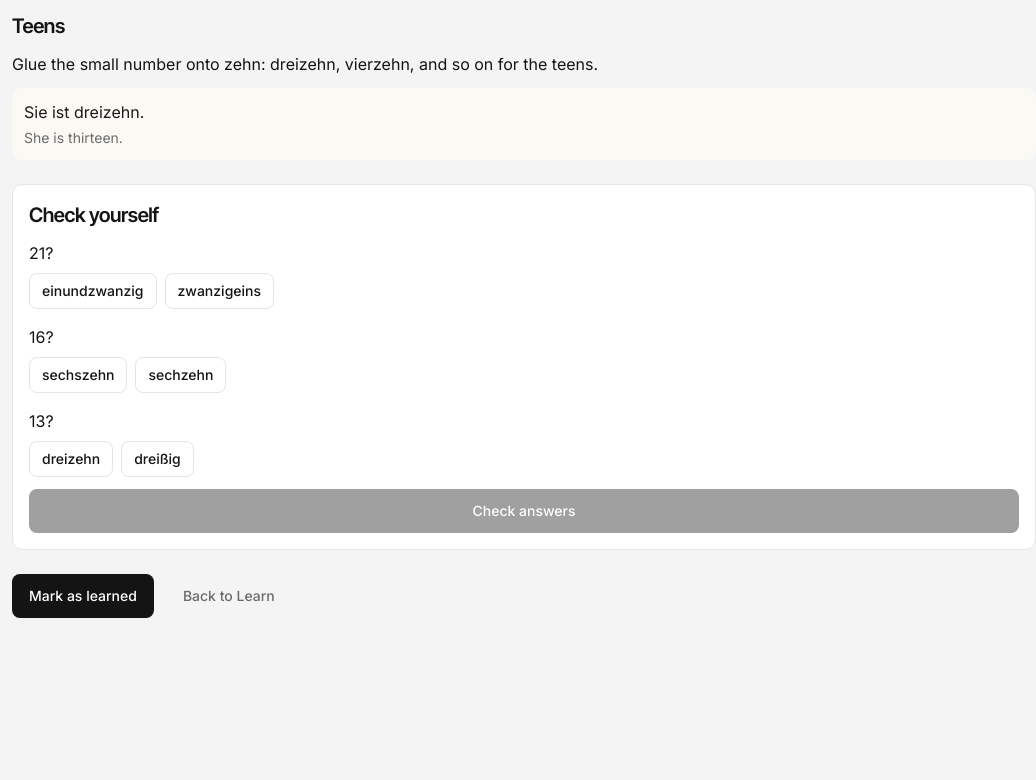
Test case: foundation study › scores the self-check, shows the grade, and allows a retake
Click the button with test id "quiz-0-0" at [93, 291], box [29,273,156,309]
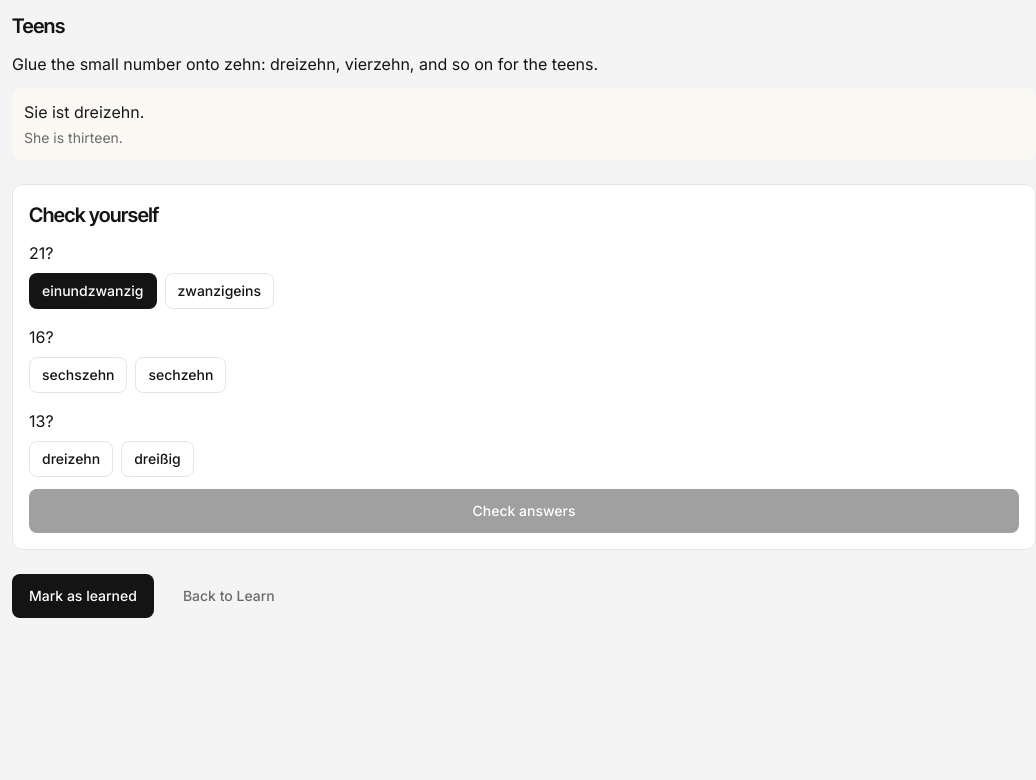
Click the button with test id "quiz-1-0" at [78, 375], box [29,357,128,393]
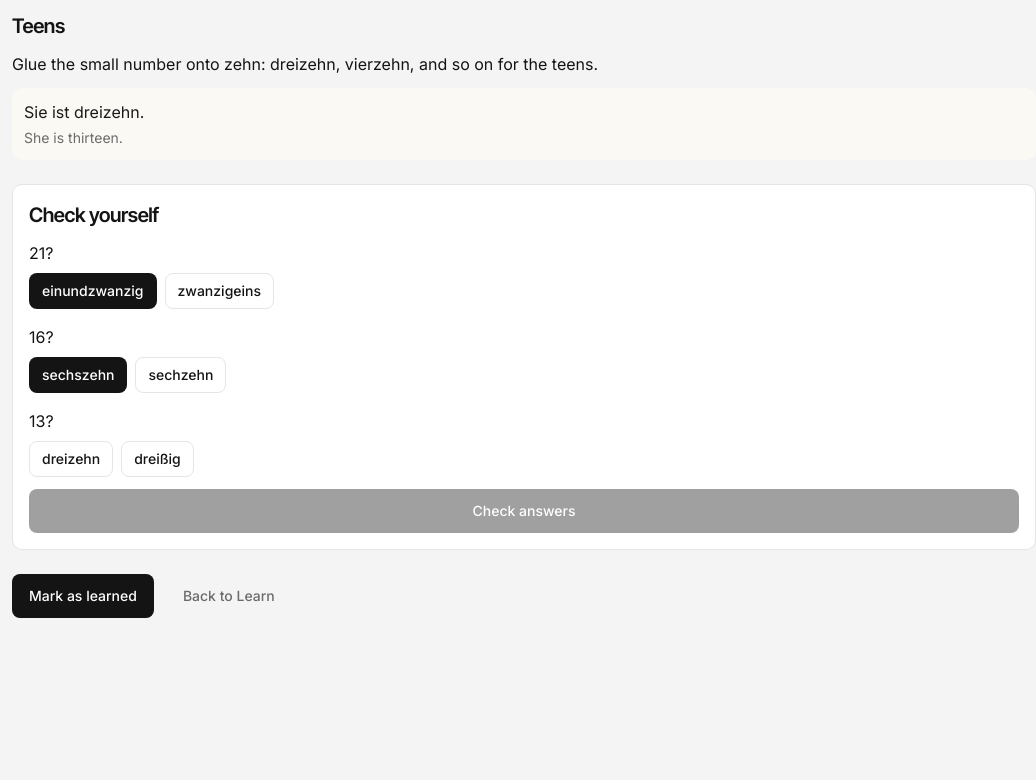
Click the button with test id "quiz-2-0" at [71, 459], box [29,441,113,477]
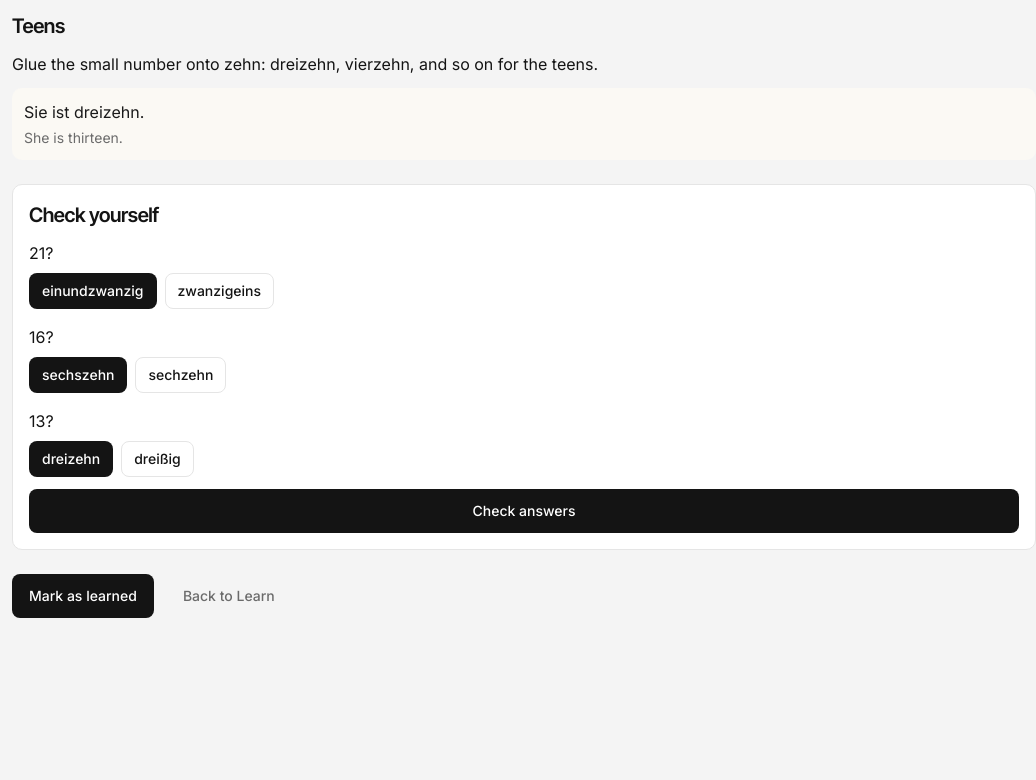
Click the button with test id "quiz-submit" at [524, 511], box [29,489,1019,533]
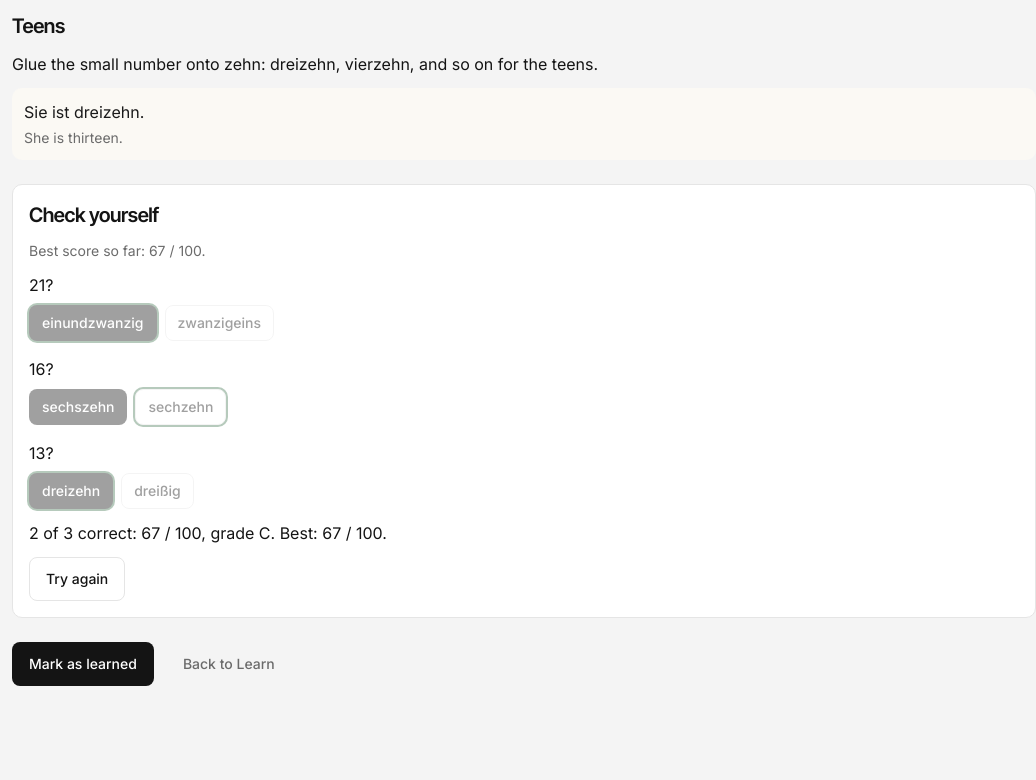
Expected: the message with test id "quiz-result" shows "67 / 100, grade C", [29,521,387,545]
Click the button with test id "quiz-retake" at [77, 579], box [29,557,125,601]
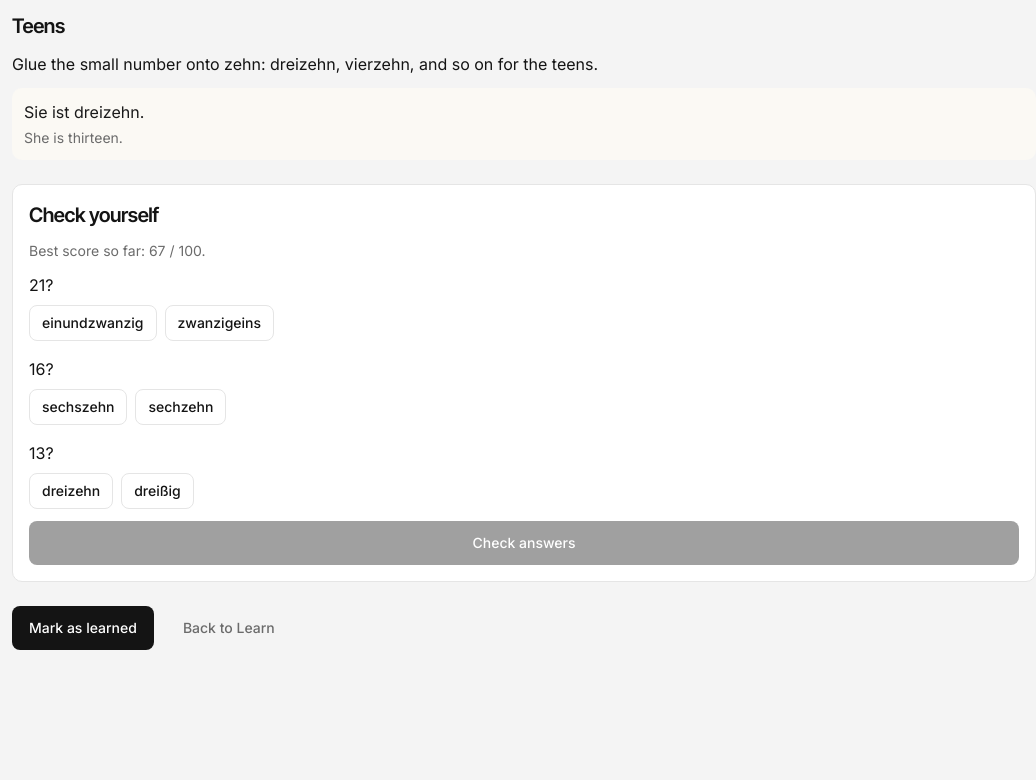
Expected: the message with test id "quiz-result" is gone
